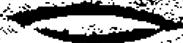Mouth: (8, 5, 178, 43)
